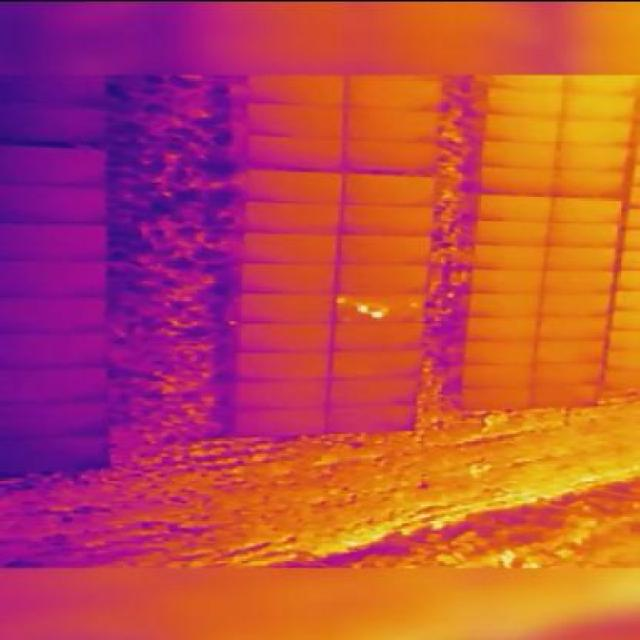hotspot: (370, 310, 384, 319), (338, 294, 350, 304), (355, 302, 367, 312)
